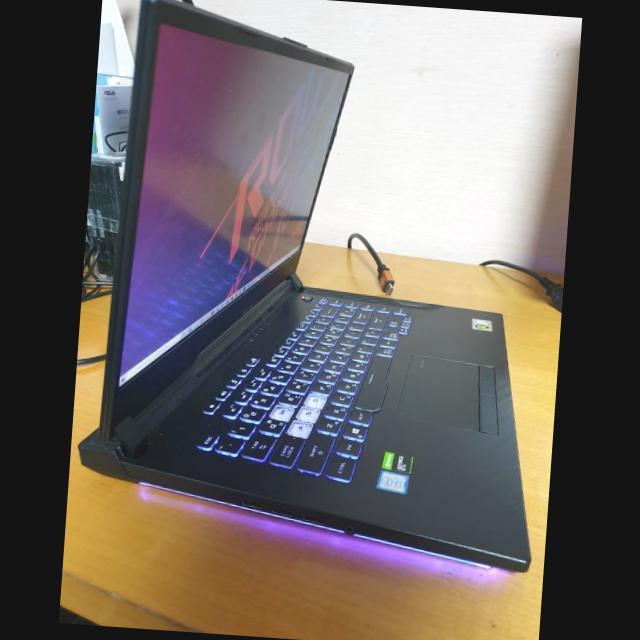laptop: (80, 0, 582, 567)
